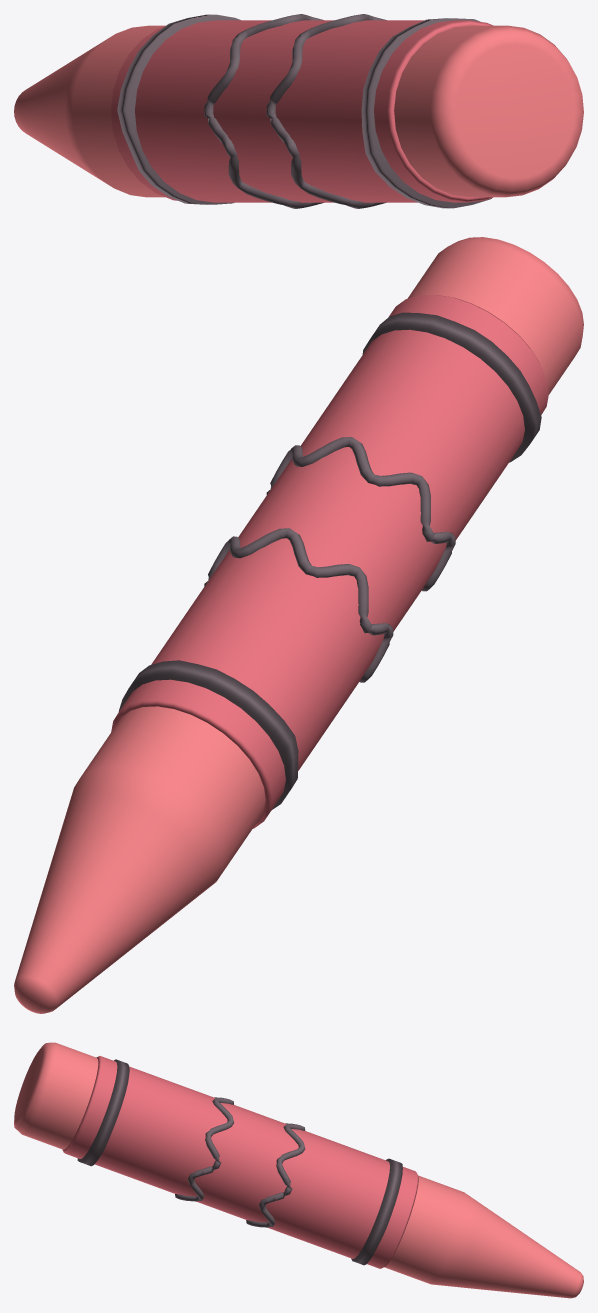
The model's file is TraceRaceCrayon.glb.
3 views of the same model, one above another, from view 1: azimuth 30°, elevation 25°; view 2: azimuth 150°, elevation 25°; view 3: azimuth 270°, elevation 25° (orthographic). The views are drawn at different scales.
Parts seen in each view (by area): view 1: Wrapper, Wax, Bands; view 2: Wrapper, Wax, Bands; view 3: Wrapper, Wax, Bands.
Part boxes in pixels (x1=…): Wrapper: x1=111, y1=20, x2=493, y2=202; Wax: x1=14, y1=25, x2=583, y2=197; Bands: x1=117, y1=14, x2=492, y2=208; Wrapper: x1=111, y1=294, x2=548, y2=828; Wax: x1=14, y1=237, x2=583, y2=1013; Bands: x1=118, y1=312, x2=541, y2=809; Wrapper: x1=62, y1=1056, x2=418, y2=1268; Wax: x1=14, y1=1042, x2=583, y2=1298; Bands: x1=77, y1=1059, x2=402, y2=1265.
Size of the model in its own units: 2.62 by 6.46 by 13.37.
